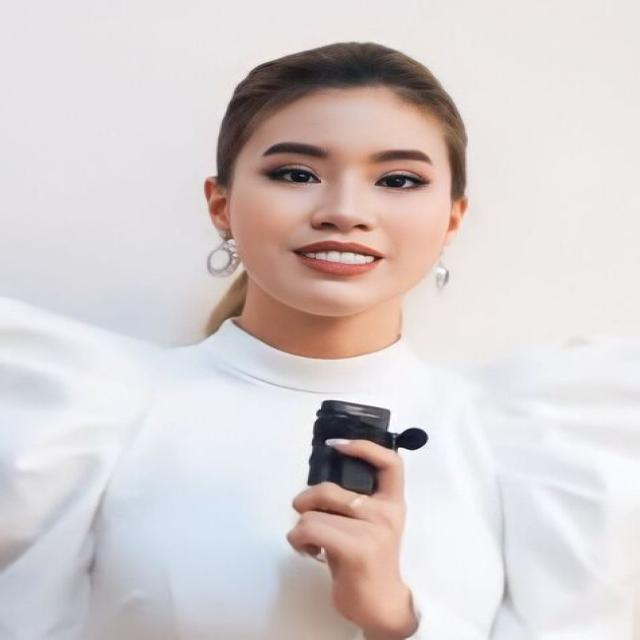Nonhelmet: (179, 28, 485, 326)
